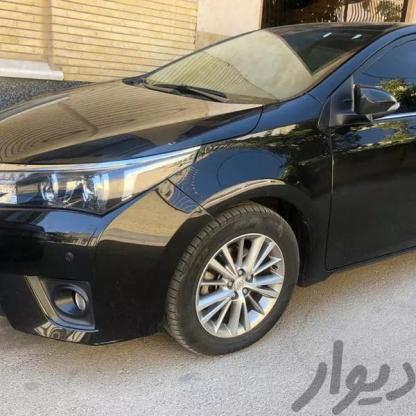Car: (0, 13, 416, 363)
